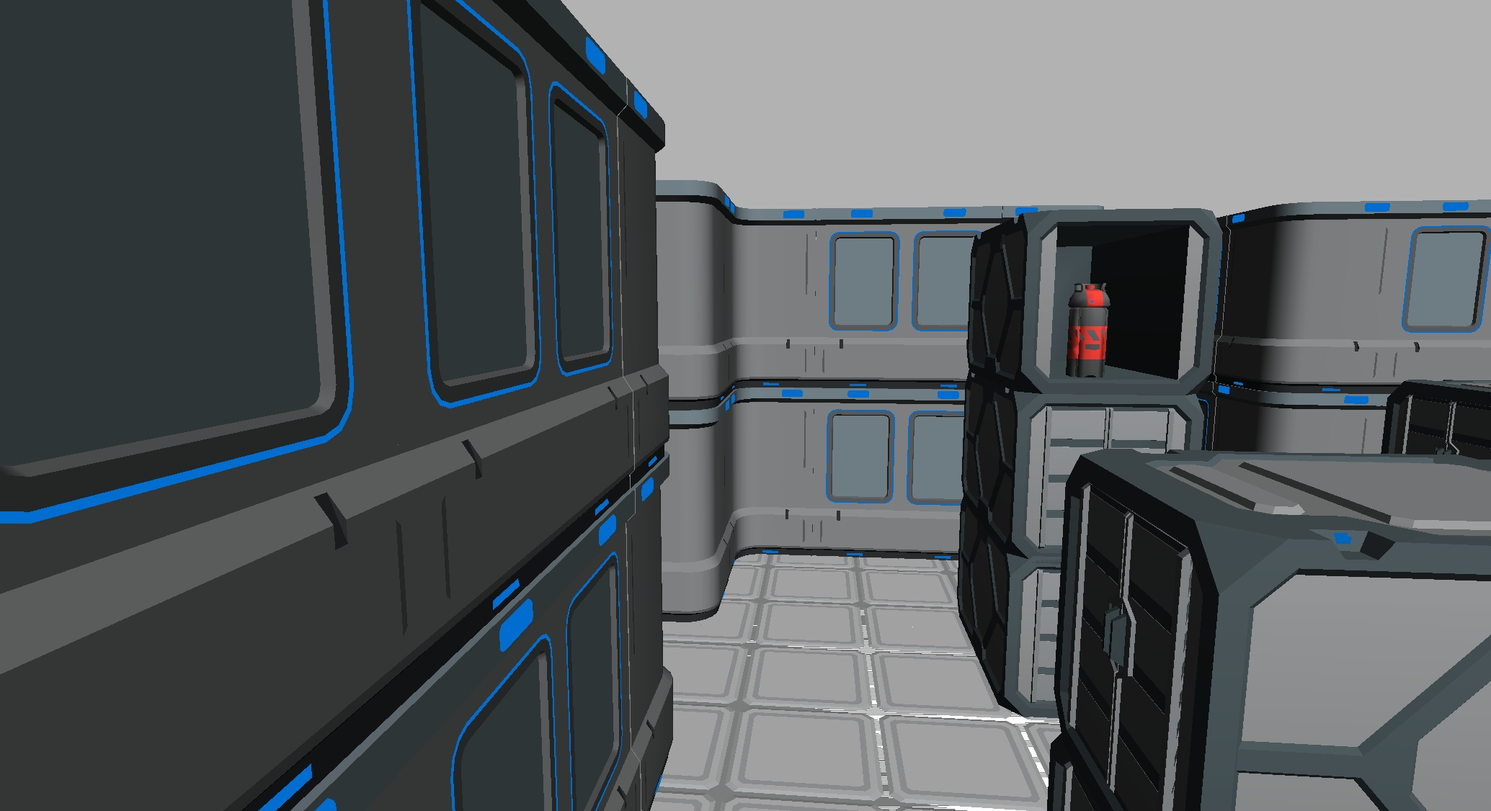red_barrel: (1068, 284, 1110, 377)
